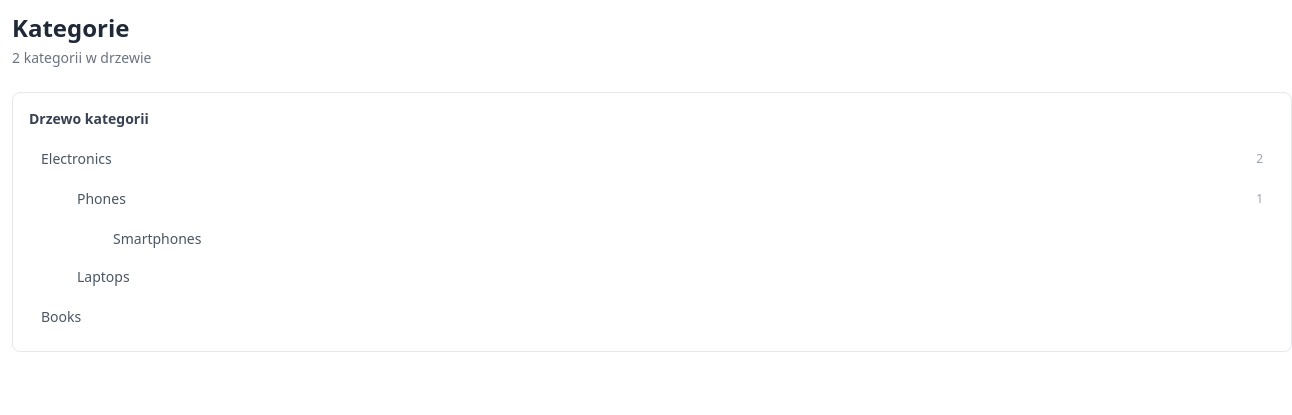
Categories (container) › shows the detail panel only after a category is selected
Check: the text "Electronics" is shown, box [41,149,112,169]
Check: the text "Podkategorie" is not shown
Click the button "Electronics 2" at (76, 158), box [29,141,1275,177]
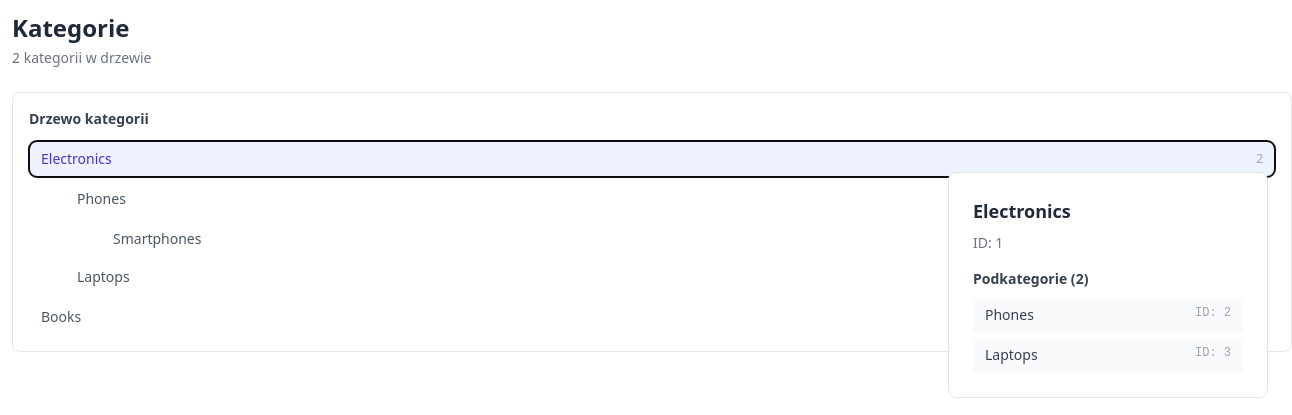
Check: the heading "Podkategorie (2)" is shown, box [973,269,1088,288]
